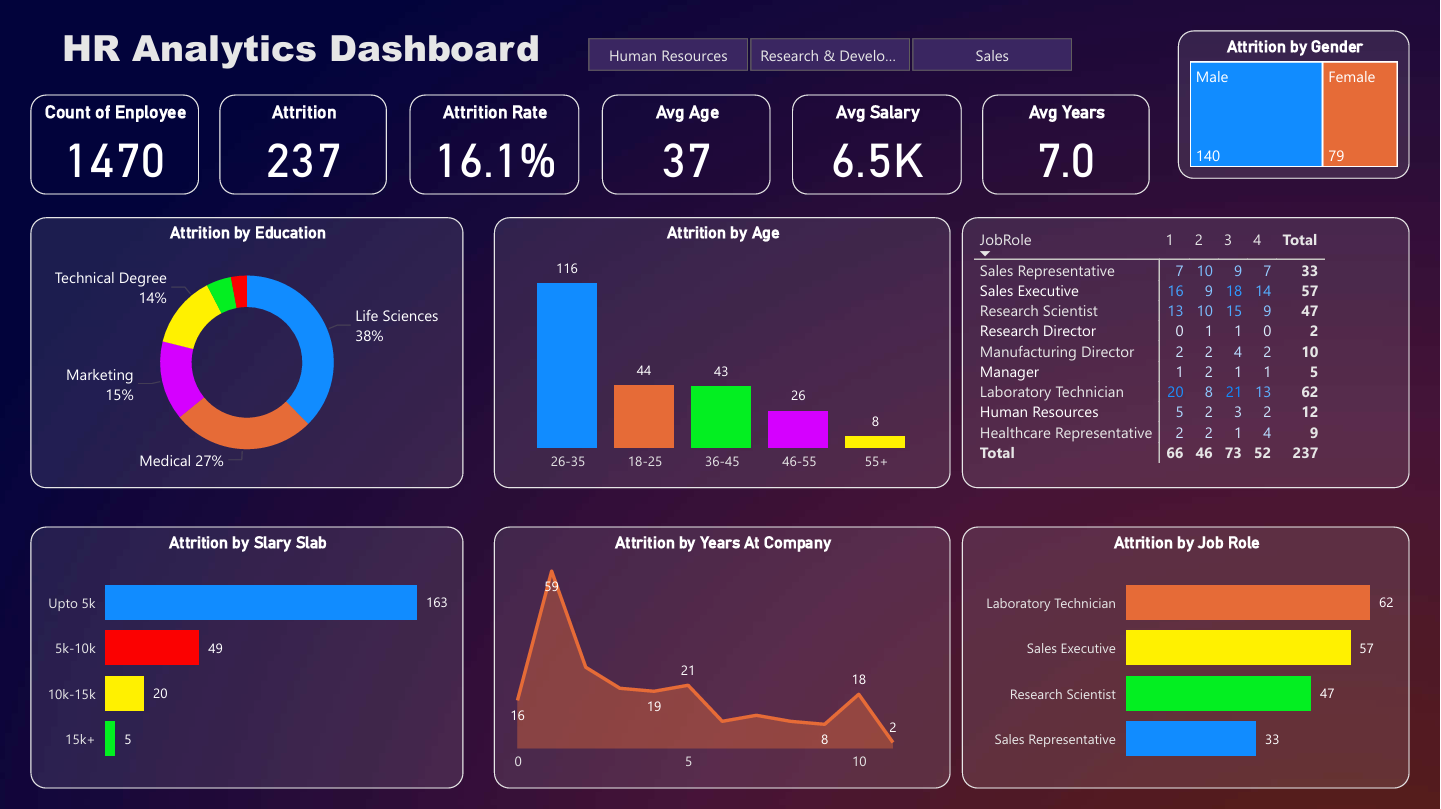

This screenshot's page, from the dashboard's own definition file:
{"tool":"powerbi","page":{"name":"Page 1","canvas":[1280,720],"ordinal":0},"visuals":[{"type":"card","title":"Count of Enployee","fields":{"Values":["CountNonNull(HR_Analytics.EmpID)"]},"box":[27.4,83.7,149.6,89.2],"z":0},{"type":"card","title":"Attrition","fields":{"Values":["Sum(HR_Analytics.Attritioncount)"]},"box":[194.9,83.7,149.6,89.2],"z":1000},{"type":"card","title":"Attrition Rate","fields":{"Values":["HR_Analytics.Attritionrate"]},"box":[363.6,83.7,150.9,89.2],"z":2000},{"type":"card","title":"Avg Age","fields":{"Values":["Avg(HR_Analytics.Age)"]},"box":[535.2,83.7,149.6,89.2],"z":3000},{"type":"card","title":"Avg Salary","fields":{"Values":["Avg(HR_Analytics.MonthlyIncome)"]},"box":[703.9,83.7,150.9,89.2],"z":4000},{"type":"card","title":"Avg Years","fields":{"Values":["Avg(HR_Analytics.YearsAtCompany)"]},"box":[872.7,83.7,149.6,89.2],"z":5000},{"type":"donutChart","title":"Attrition by Education","fields":{"Category":["HR_Analytics.EducationField"],"Y":["Sum(HR_Analytics.Attritioncount)"]},"box":[27.4,193.5,384.2,240.1],"z":6000},{"type":"columnChart","title":"Attrition by Age","fields":{"Category":["HR_Analytics.AgeGroup"],"Y":["Sum(HR_Analytics.Attritioncount)"]},"box":[439.1,193.5,406.2,240.1],"z":7000},{"type":"pivotTable","fields":{"Rows":["HR_Analytics.JobRole"],"Columns":["HR_Analytics.JobSatisfaction"],"Values":["Sum(HR_Analytics.Attritioncount)"]},"box":[854.9,193.5,397.9,240.1],"z":8000},{"type":"barChart","title":"Attrition by Slary Slab","fields":{"Category":["HR_Analytics.SalarySlab"],"Y":["Sum(HR_Analytics.Attritioncount)"]},"box":[27.4,467.9,384.2,233.3],"z":9000},{"type":"barChart","title":"Attrition by Job Role","fields":{"Category":["HR_Analytics.JobRole"],"Y":["Sum(HR_Analytics.Attritioncount)"]},"box":[854.9,467.9,397.9,233.3],"z":10000},{"type":"areaChart","title":"Attrition by Years At Company","fields":{"Category":["HR_Analytics.YearsAtCompany"],"Y":["Sum(HR_Analytics.Attritioncount)"]},"box":[439.1,467.9,406.2,233.3],"z":11000},{"type":"treemap","title":"Attrition by Gender","fields":{"Group":["HR_Analytics.Gender"],"Values":["Sum(HR_Analytics.Attritioncount)"]},"box":[1047,27.4,205.8,131.7],"z":12000},{"type":"slicer","fields":{"Values":["HR_Analytics.Department"]},"box":[496.7,27.4,480.3,42.5],"z":13000},{"type":"textbox","box":[12.3,13.7,510.5,56.3],"z":14000}]}

Visuals, with their boxes in screenshot pixels (x1, y1, x2, y2), scaled from the page's 1280x720 canvas onto the 1441x809 screenshot:
"Count of Enployee" card: left=31, top=94, right=199, bottom=194
"Attrition" card: left=219, top=94, right=388, bottom=194
"Attrition Rate" card: left=409, top=94, right=579, bottom=194
"Avg Age" card: left=603, top=94, right=771, bottom=194
"Avg Salary" card: left=792, top=94, right=962, bottom=194
"Avg Years" card: left=982, top=94, right=1151, bottom=194
"Attrition by Education" donutChart: left=31, top=217, right=463, bottom=487
"Attrition by Age" columnChart: left=494, top=217, right=952, bottom=487
pivotTable - HR_Analytics.JobRole x HR_Analytics.JobSatisfaction: left=962, top=217, right=1410, bottom=487
"Attrition by Slary Slab" barChart: left=31, top=526, right=463, bottom=788
"Attrition by Job Role" barChart: left=962, top=526, right=1410, bottom=788
"Attrition by Years At Company" areaChart: left=494, top=526, right=952, bottom=788
"Attrition by Gender" treemap: left=1179, top=31, right=1410, bottom=179
slicer - HR_Analytics.Department: left=559, top=31, right=1100, bottom=79
textbox: left=14, top=15, right=589, bottom=79
